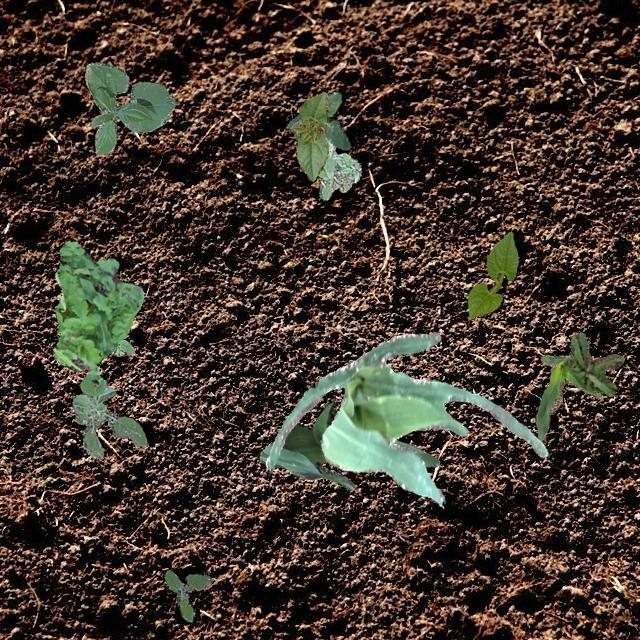crop: (264, 332, 546, 504), (256, 398, 438, 490), (84, 62, 174, 154), (534, 351, 600, 444), (468, 230, 518, 318), (292, 91, 328, 180)
weed: (51, 240, 142, 384), (70, 374, 146, 458), (560, 332, 624, 394), (286, 90, 350, 148), (316, 136, 360, 198), (162, 570, 212, 620), (110, 338, 132, 356)
